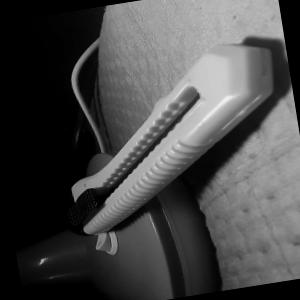estilete: (43, 34, 295, 240)
